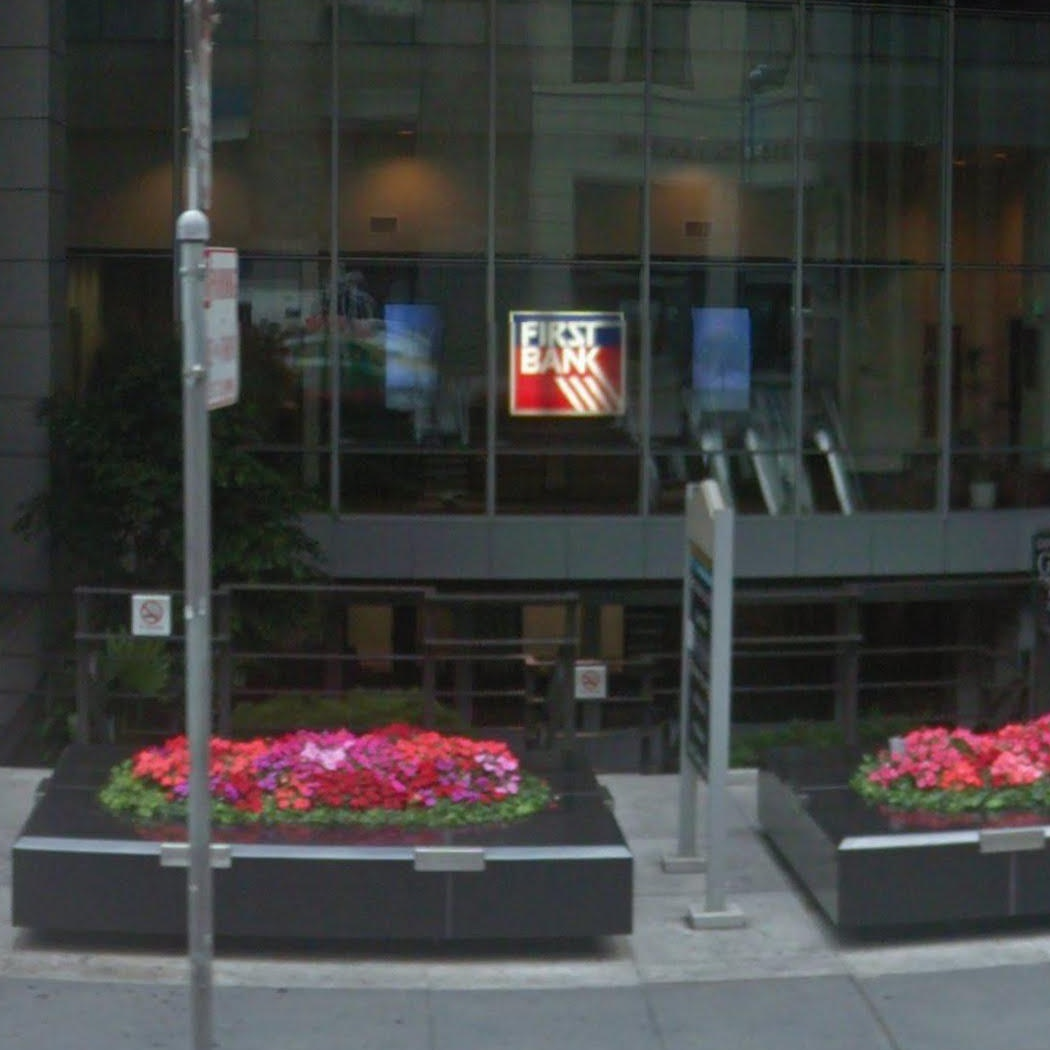No Parking: (203, 247, 240, 411)
